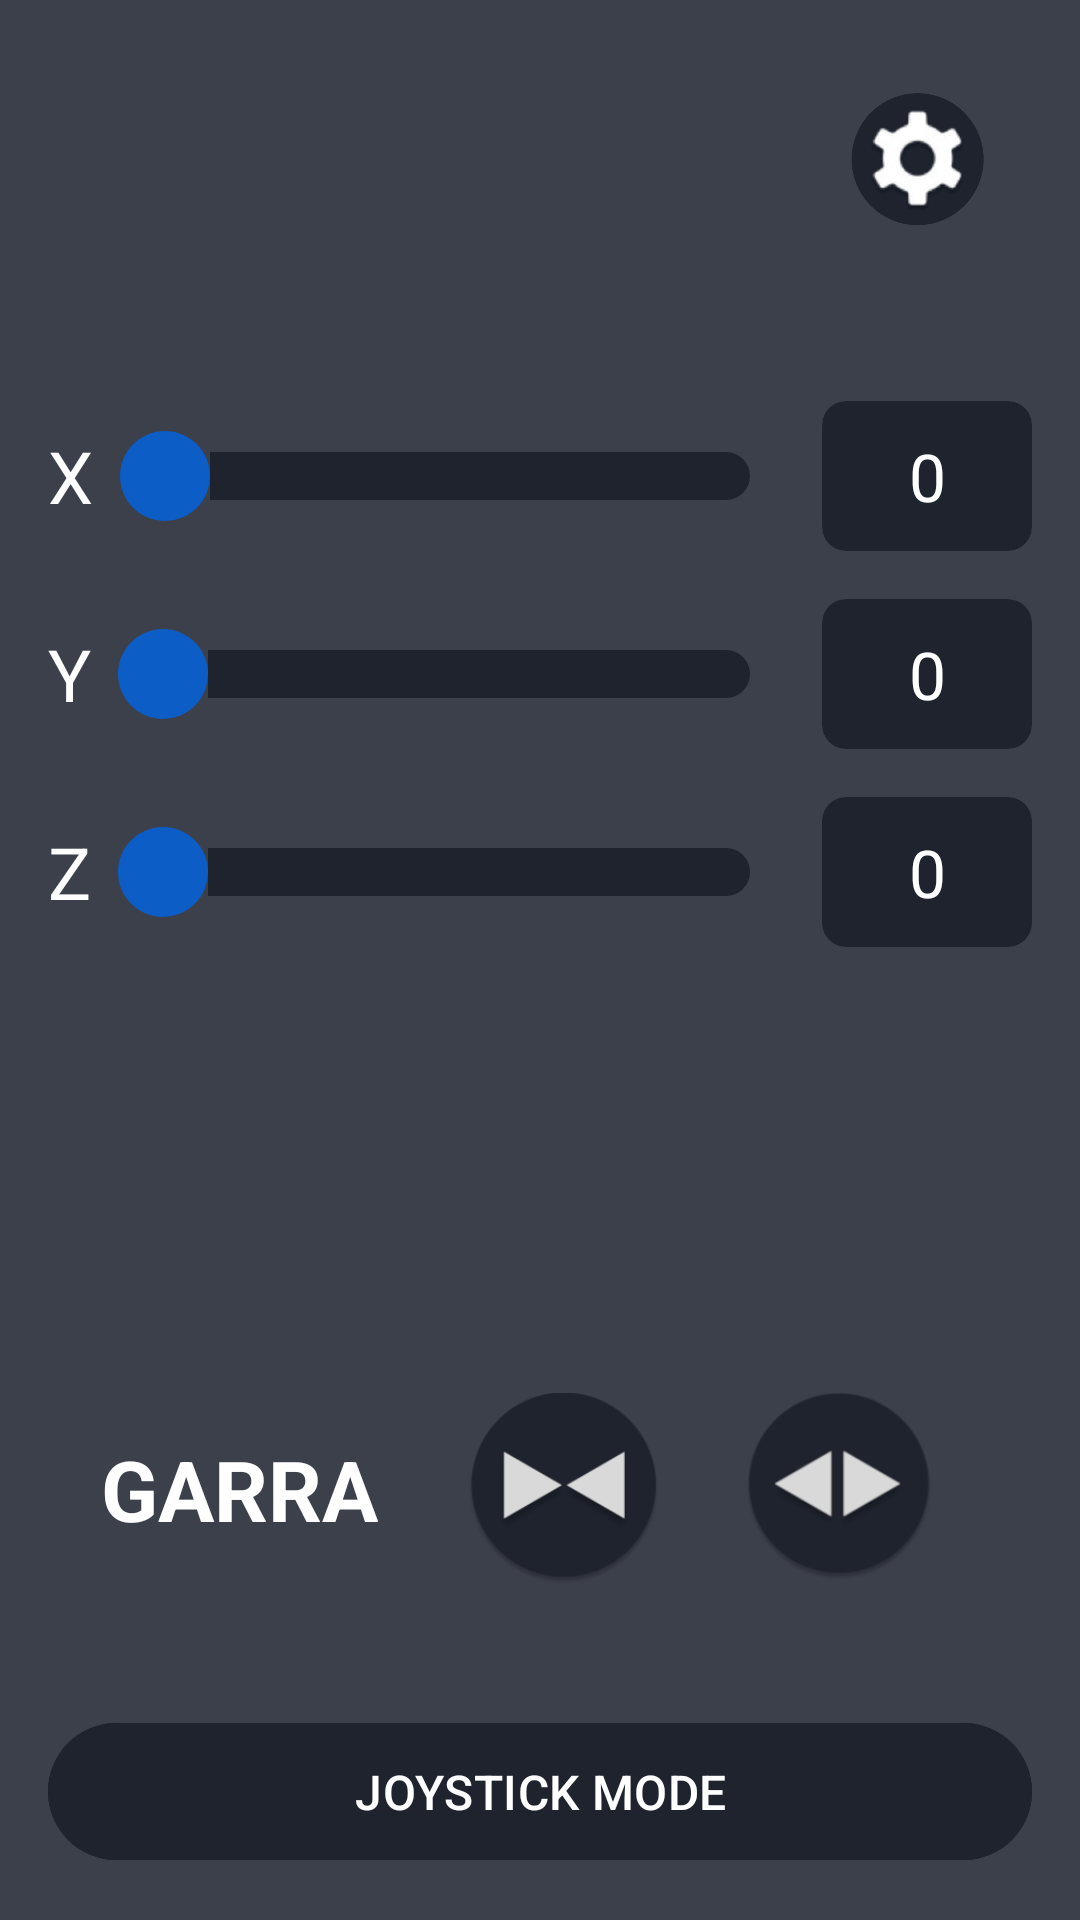

Named icons in this screenshot (1080px×1920px) and their bounding boxes, rect(x1, y1, x2, y2):
engrenagem: rect(852, 93, 983, 225)
